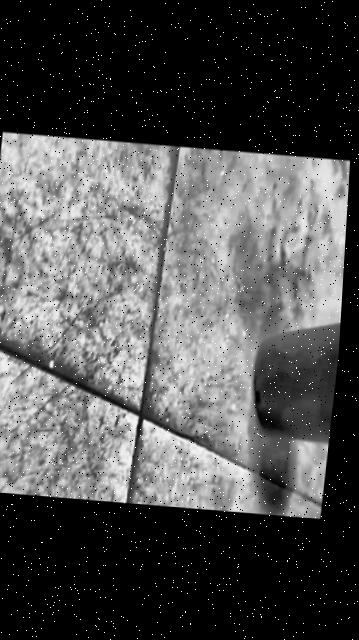pot: (245, 304, 341, 450)
